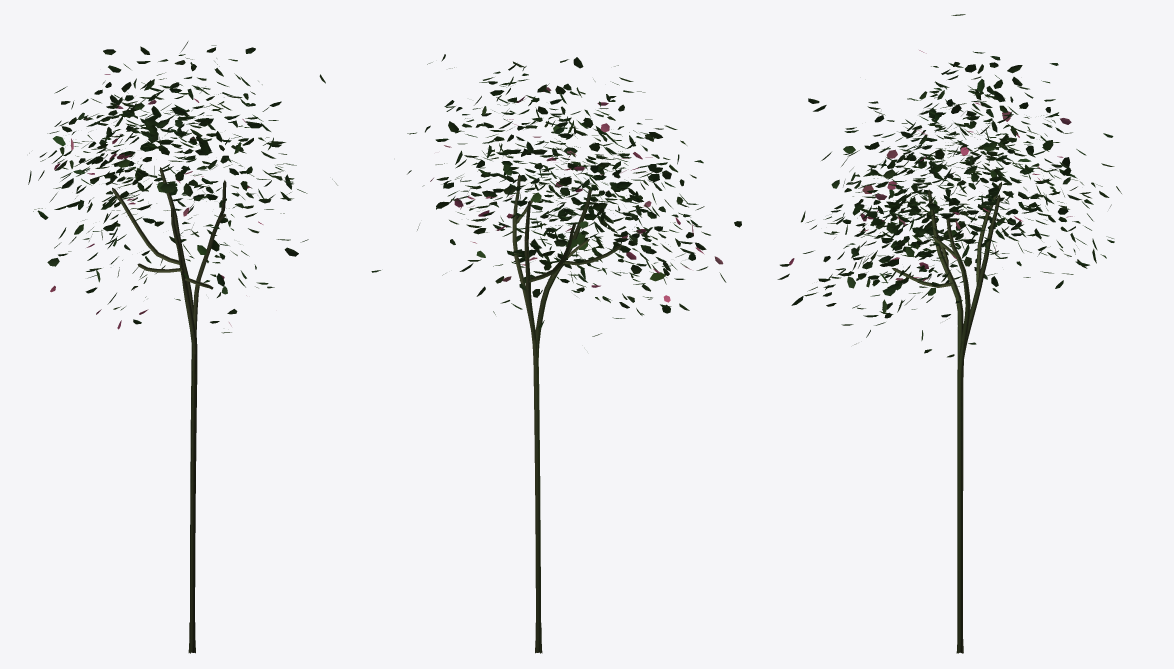
File: SM_Tree_garden_rose_1.glb
The picture shows the model from 3 angles, left to right: view 1: azimuth 30°, elevation 25°; view 2: azimuth 150°, elevation 25°; view 3: azimuth 270°, elevation 25°; orthographic projection. The views are drawn at different scales.
Visible parts, largest first — view 1: SM_Tree_garden_rose_1; view 2: SM_Tree_garden_rose_1; view 3: SM_Tree_garden_rose_1.
Part boxes in pixels (x1,y1,x2,y2): SM_Tree_garden_rose_1: [28, 41, 337, 653]; SM_Tree_garden_rose_1: [371, 54, 741, 653]; SM_Tree_garden_rose_1: [777, 14, 1121, 653].
Bounding box in the file's own units: 1.19 × 2.39 × 1.42.
